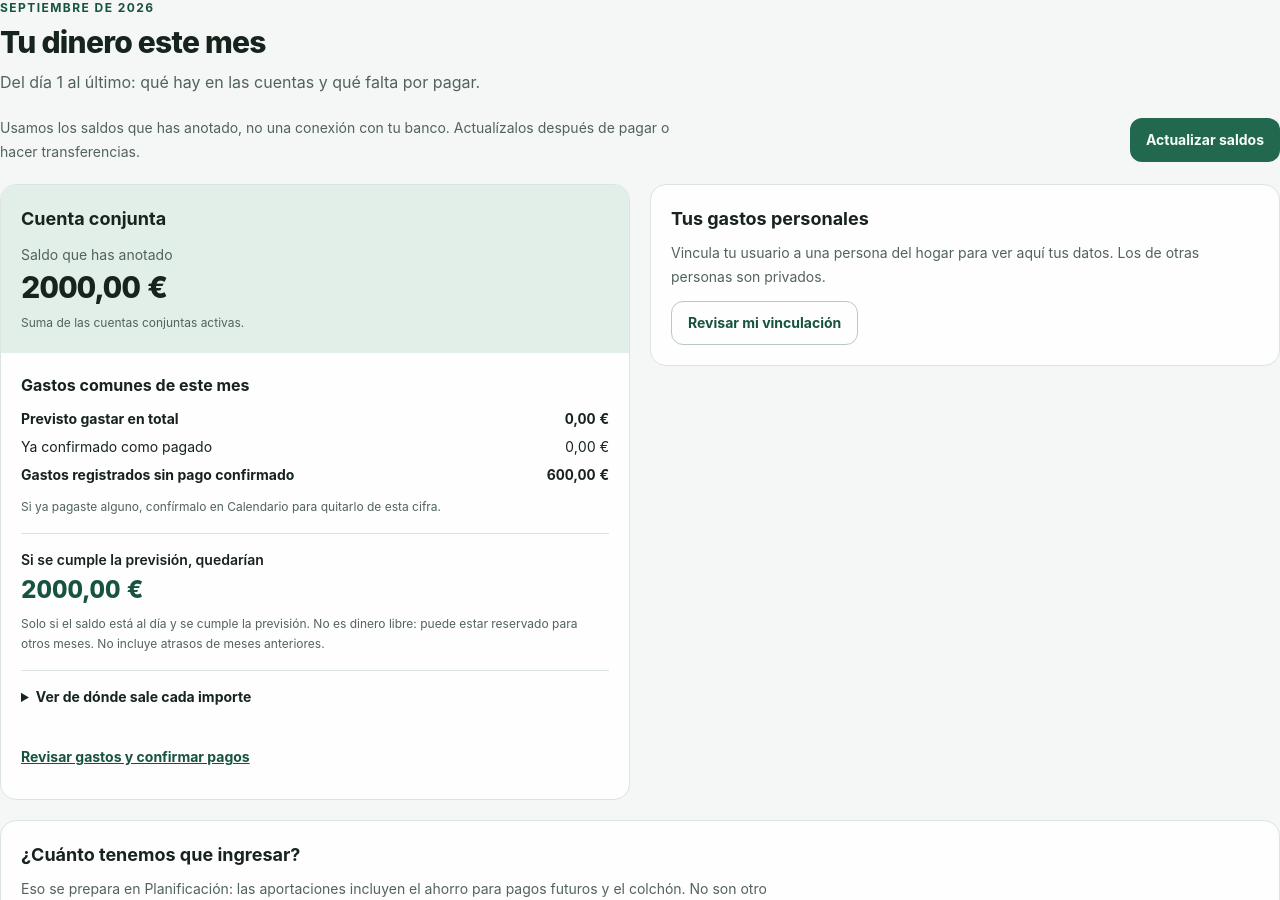
Scenario: Inicio: saldo y gastos del mes › explains an empty month instead of promising there will be no payments
Click the heading "Ver de dónde sale cada importe". click: (144,696)
box: [36,688,251,705]
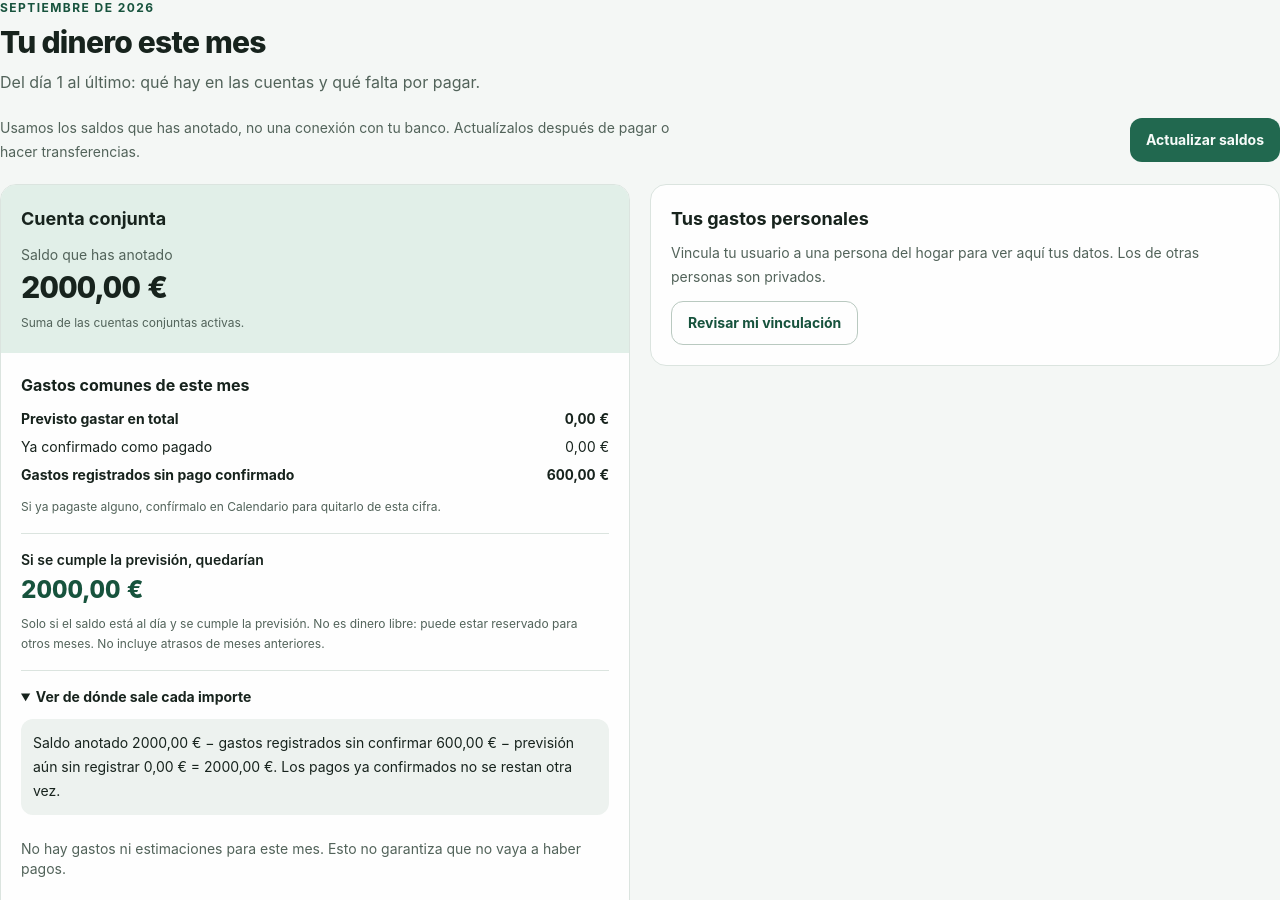
Check: the text "Esto no garantiza que no vaya a haber pagos" is shown, box [21,840,581,877]
